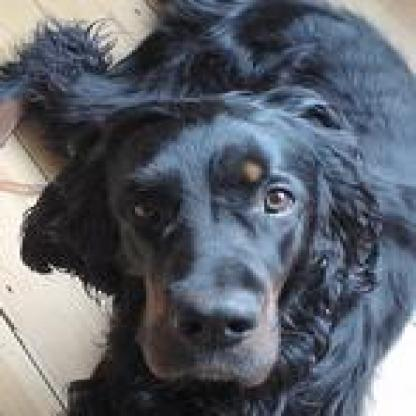Gordon_setter: (0, 0, 410, 411)
